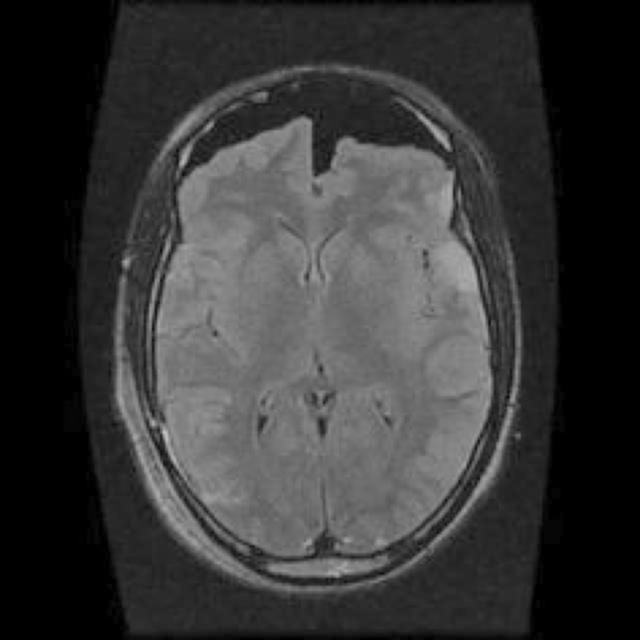glioma tumor: (198, 111, 458, 529)
